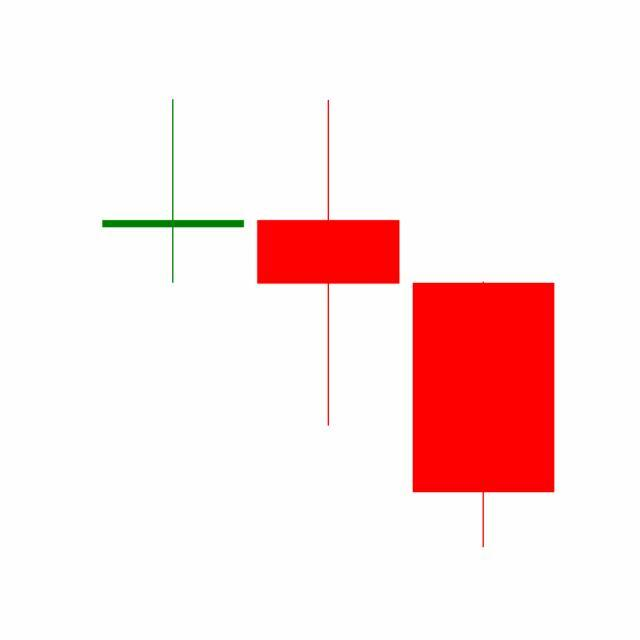Spinning Top: (250, 97, 407, 431)
